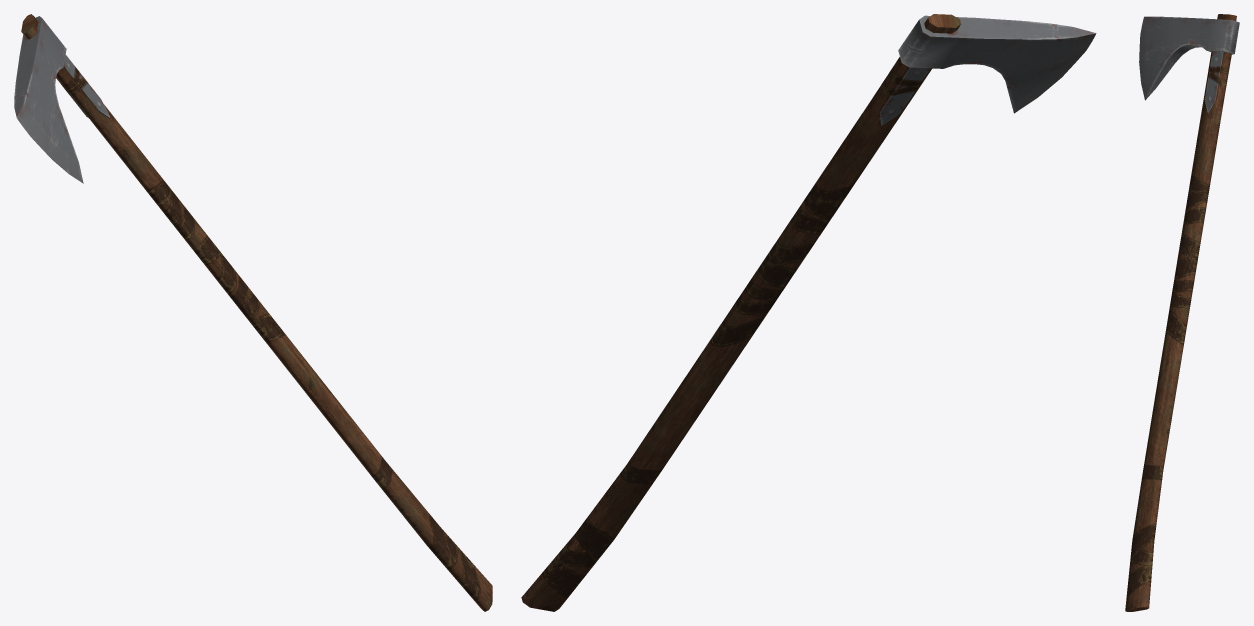
Rendered from battle_axe.glb.
3 views of the same model, side by side, from view 1: azimuth 30°, elevation 25°; view 2: azimuth 150°, elevation 25°; view 3: azimuth 270°, elevation 25° (orthographic). The views are drawn at different scales.
Visible parts, largest first — view 1: Box001; view 2: Box001; view 3: Box001.
Part boxes in pixels (x1=…): Box001: x1=14, y1=14, x2=492, y2=611; Box001: x1=521, y1=14, x2=1096, y2=611; Box001: x1=1125, y1=14, x2=1239, y2=611.
Size of the model in its own units: 628 by 805 by 181.
Materials: 1 (1 with a texture image).
